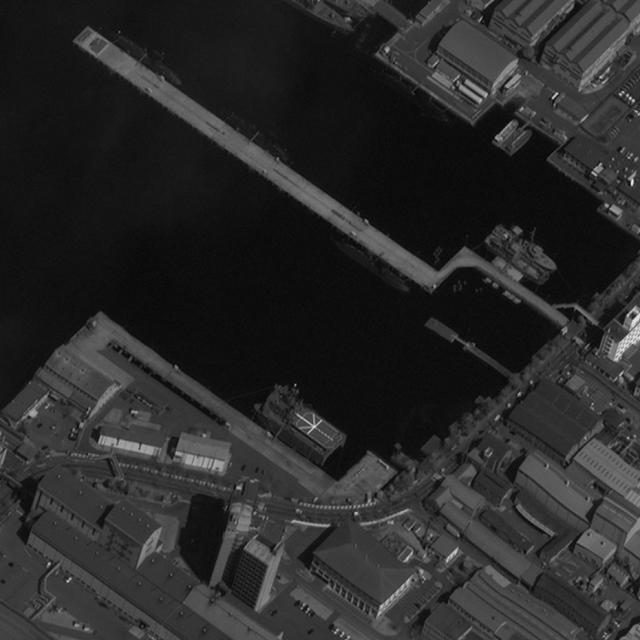Auxiliary Ships: (248, 378, 351, 470)
Dock: (74, 21, 445, 295)
Other Warship: (491, 218, 562, 275), (482, 231, 552, 287)
Submarine: (112, 31, 185, 89), (224, 110, 293, 164), (344, 238, 410, 292)
